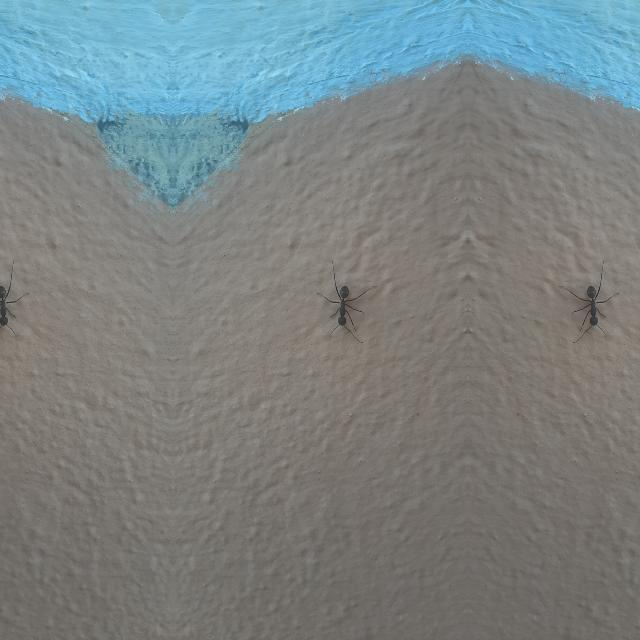Camponotus: (326, 270, 358, 346), (576, 270, 608, 346), (0, 268, 18, 346)
